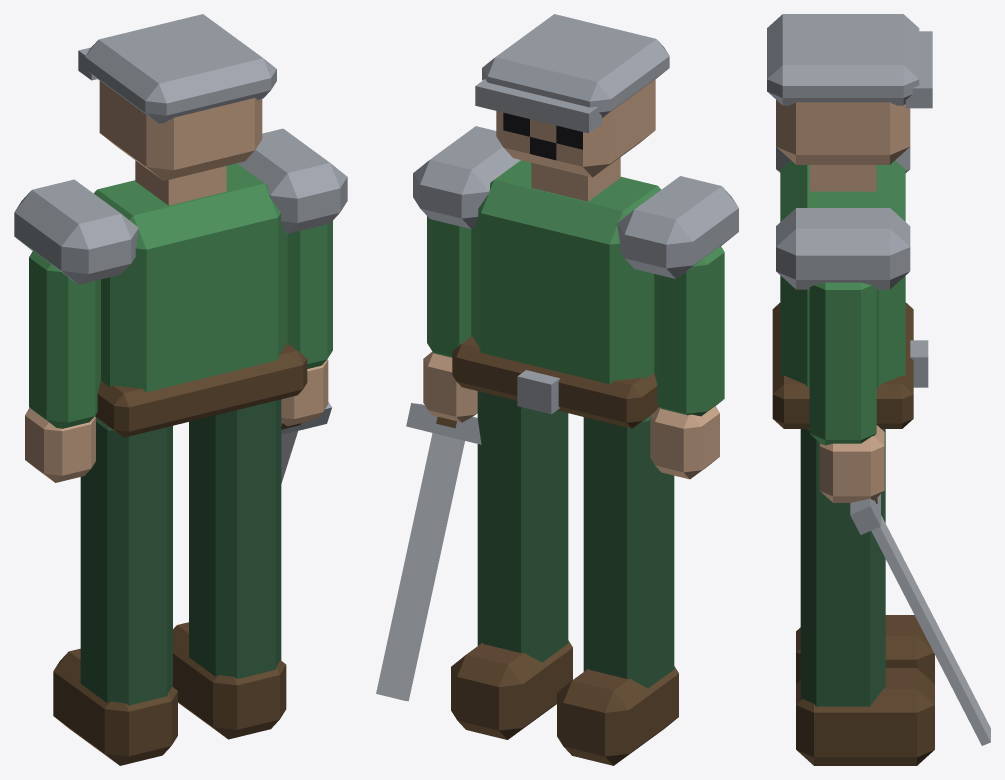
File: hero.glb
3 renders of one model, left to right at view 1: azimuth 30°, elevation 25°; view 2: azimuth 150°, elevation 25°; view 3: azimuth 270°, elevation 25°, orthographic. The views are drawn at different scales.
Parts seen in each view (by area): view 1: Torso, Leg_L, Leg_R, Head, OffArm, SwordArm; view 2: Torso, Leg_R, Leg_L, Head, SwordArm, OffArm; view 3: Leg_R, Torso, Head, SwordArm, Leg_L.
Part boxes in pixels (x1,y1,x2,y2): Torso: [14, 128, 347, 437]; Leg_L: [53, 418, 177, 765]; Leg_R: [173, 399, 286, 739]; Head: [78, 14, 276, 180]; OffArm: [25, 251, 100, 482]; SwordArm: [281, 221, 332, 483]; Torso: [413, 126, 738, 428]; Leg_R: [451, 391, 572, 739]; Leg_L: [557, 416, 678, 765]; Head: [475, 14, 669, 177]; SwordArm: [376, 216, 481, 701]; OffArm: [650, 246, 724, 479]; Leg_R: [796, 429, 934, 765]; Torso: [772, 147, 928, 428]; Head: [767, 14, 932, 164]; SwordArm: [809, 282, 990, 745]; Leg_L: [796, 615, 934, 683].
Size of the model in its own units: 0.77 by 1.7 by 0.5002.
